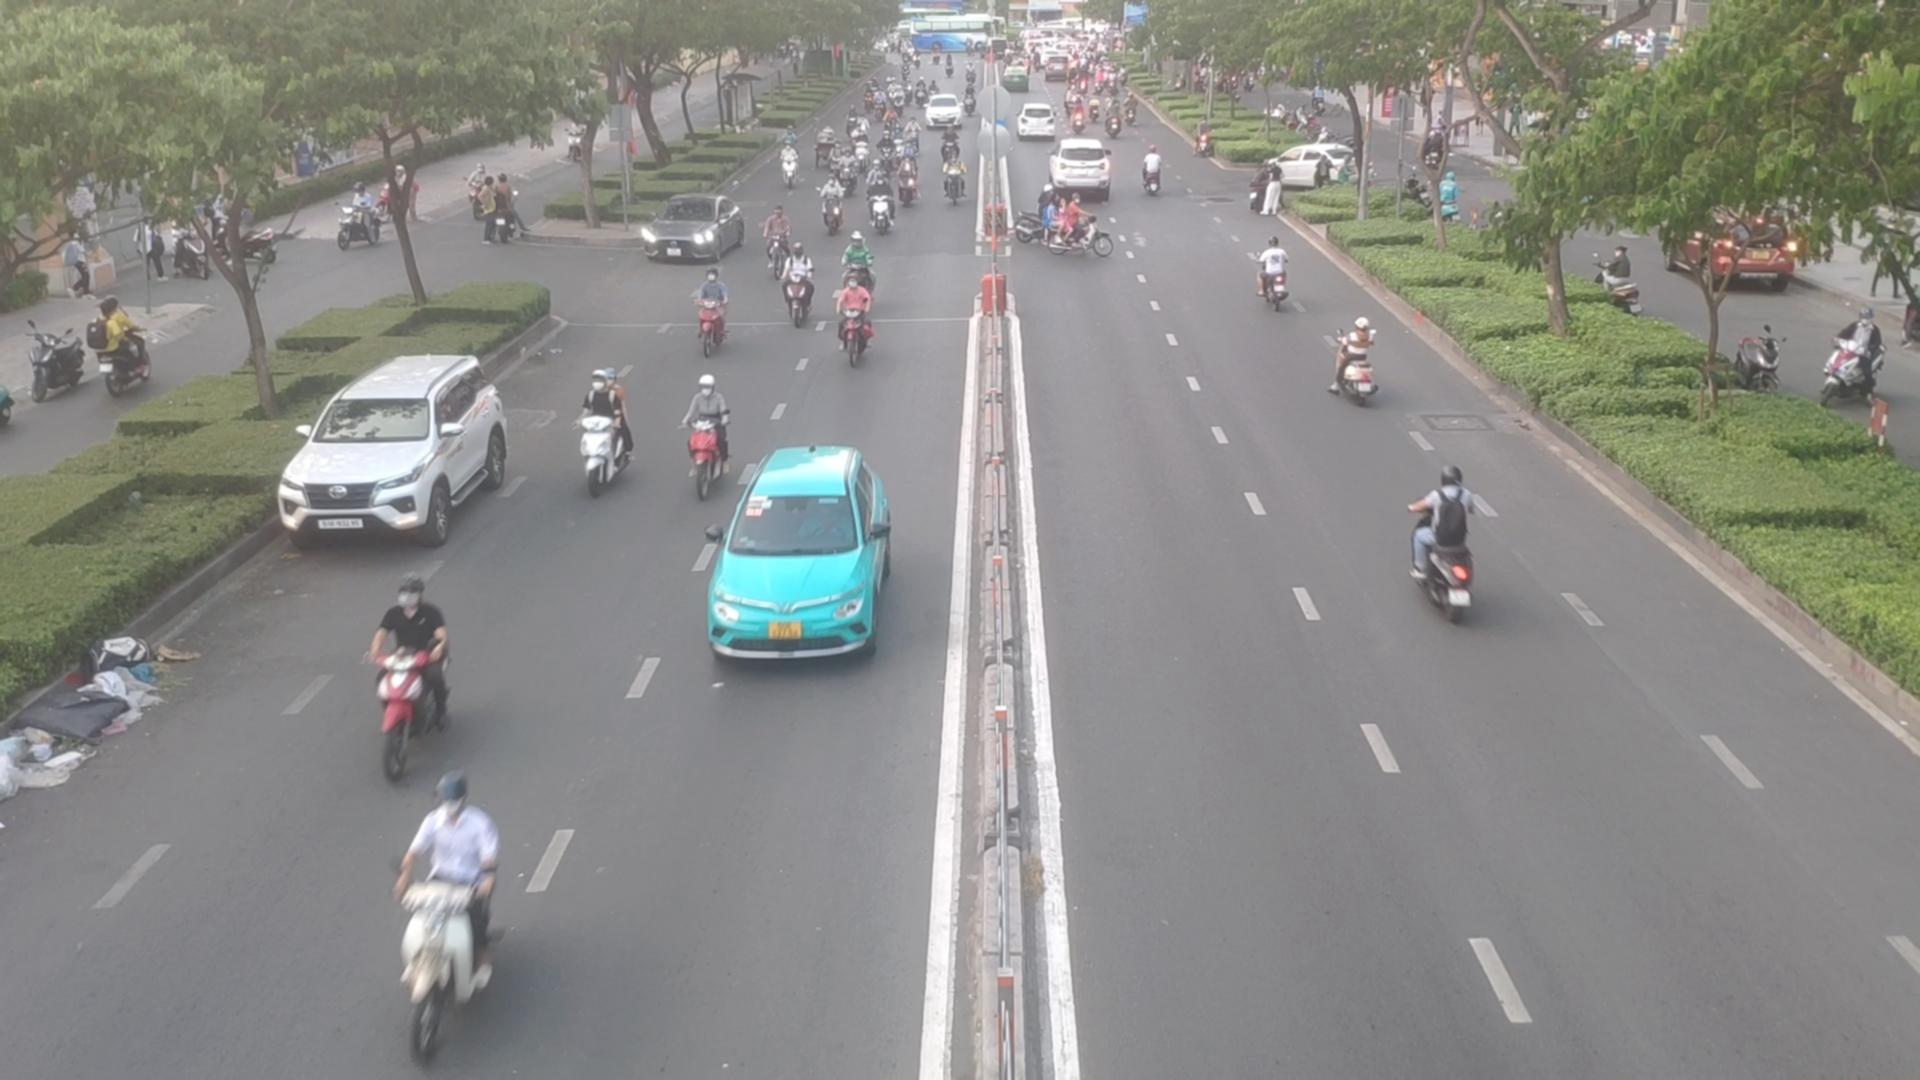car: (272, 351, 517, 542), (698, 446, 895, 661), (636, 196, 746, 264), (1052, 138, 1116, 193)
motorbike: (382, 775, 495, 1042), (367, 574, 463, 771), (1412, 464, 1476, 630), (566, 363, 636, 513), (682, 368, 732, 502), (1035, 195, 1124, 251), (825, 277, 870, 368), (690, 257, 736, 335), (1336, 323, 1370, 406), (775, 233, 804, 318), (837, 229, 876, 291), (1259, 243, 1288, 316), (765, 200, 793, 265), (814, 169, 839, 229), (1142, 145, 1167, 200), (876, 166, 893, 240), (777, 144, 800, 193), (901, 156, 924, 203), (841, 146, 860, 189), (878, 133, 897, 175), (947, 161, 965, 200), (853, 131, 873, 165), (942, 124, 956, 162), (893, 127, 905, 156), (831, 138, 840, 170)
